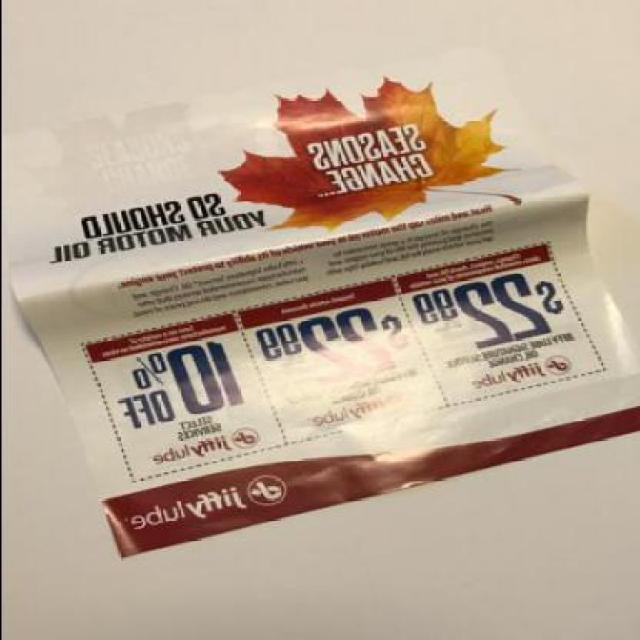PAPER: (1, 52, 638, 560)
